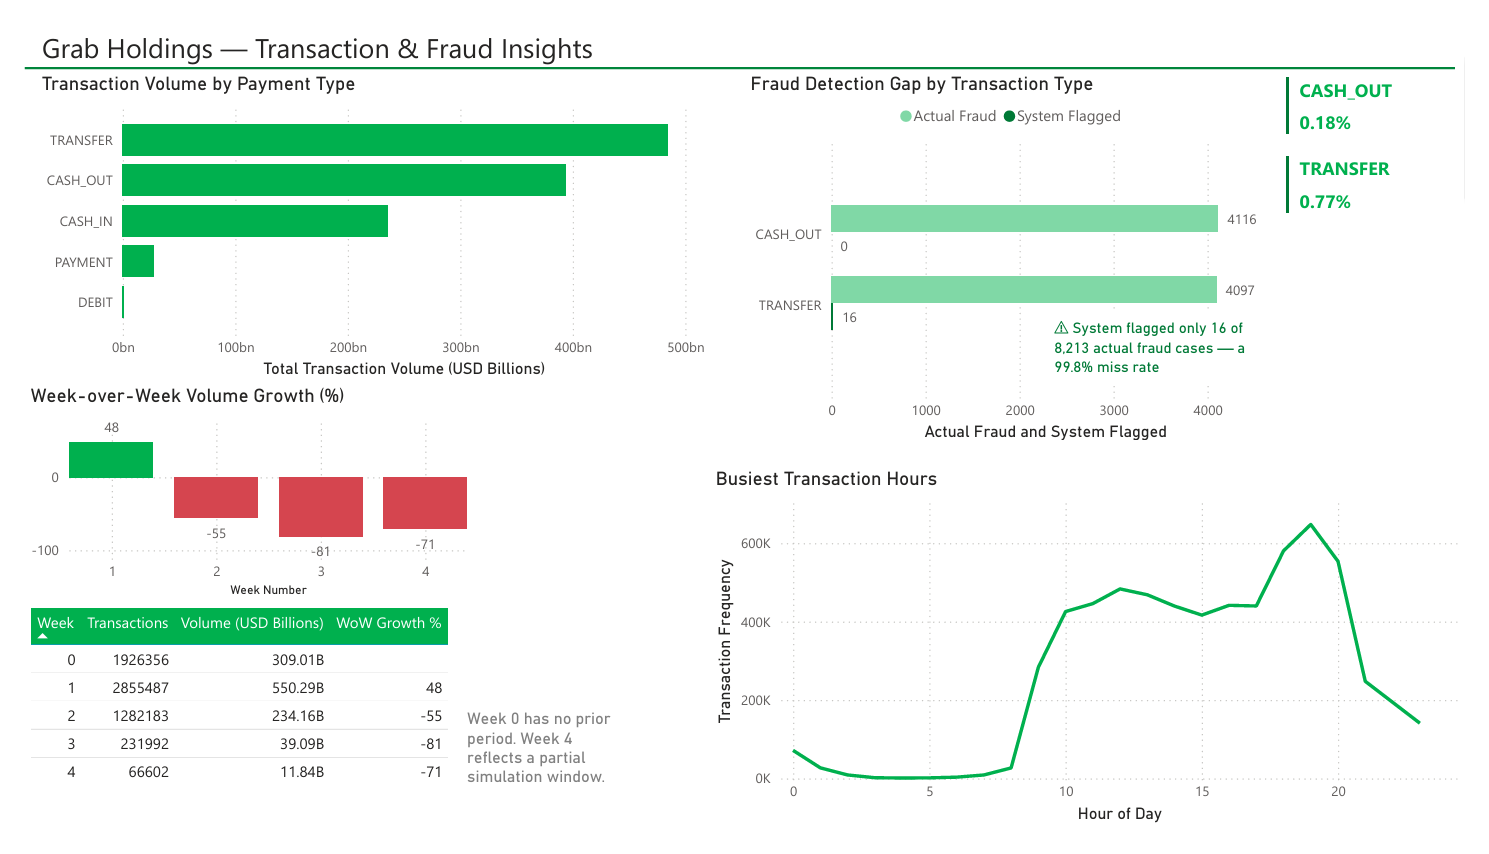

Layout of this report page (visuals, bound fields, positions):
{"tool":"powerbi","page":{"name":"Transaction Insights","canvas":[1280,720],"ordinal":2},"visuals":[{"type":"clusteredBarChart","title":"Transaction Volume by Payment Type","fields":{"Category":["transaction_payment_type.type"],"Y":["Sum(transaction_payment_type.total_volume)"]},"box":[10,47.5,598.8,277.5],"z":0},{"type":"clusteredBarChart","title":"Fraud Detection Gap by Transaction Type","fields":{"Category":["fraud_rate.type"],"Y":["Sum(fraud_rate.actual_fraud)","Sum(fraud_rate.system_flagged)"]},"box":[640,47.5,476.2,332.5],"z":1000},{"type":"textbox","box":[910,258.8,195,66.2],"z":2000},{"type":"lineChart","title":"Busiest Transaction Hours","fields":{"Category":["busiest_hours2.hour_of_day"],"Y":["Sum(busiest_hours2.transaction_frequency)"]},"box":[608.8,398.8,670,321.2],"z":3000},{"type":"multiRowCard","fields":{"Values":["fraud_rate.type","fraud_rate.Fraud Rate Display"]},"box":[1116.2,47.5,147.5,161.2],"z":4000},{"type":"tableEx","title":"Week over Week Growth","fields":{"Values":["WoW_growth.week_number","Sum(WoW_growth.total_transactions)","WoW_growth.Billion_Format","Sum(WoW_growth.wow_growth_percentage)"]},"box":[0,501.2,397.5,188.8],"z":5000},{"type":"clusteredColumnChart","title":"Week-over-Week Volume Growth (%)","fields":{"Category":["WoW_growth.week_number"],"Y":["Sum(WoW_growth.wow_growth_percentage)"]},"box":[0,325,397.5,195],"z":6000},{"type":"textbox","box":[387.5,608.8,155,81.2],"z":7000},{"type":"textbox","box":[10,5,512.5,42.5],"z":7001},{"type":"shape","box":[0,26.1,1270.7,37],"z":7002}]}

Visuals, with their boxes in screenshot pixels (x1, y1, x2, y2), scaled from the page's 1280x720 canvas onto the 1489x854 screenshot:
"Transaction Volume by Payment Type" clusteredBarChart: region(12, 56, 708, 385)
"Fraud Detection Gap by Transaction Type" clusteredBarChart: region(744, 56, 1298, 451)
textbox: region(1059, 307, 1285, 385)
"Busiest Transaction Hours" lineChart: region(708, 473, 1488, 853)
multiRowCard - fraud_rate.type x fraud_rate.Fraud Rate Display: region(1298, 56, 1470, 248)
"Week over Week Growth" tableEx: region(0, 594, 462, 818)
"Week-over-Week Volume Growth (%)" clusteredColumnChart: region(0, 385, 462, 617)
textbox: region(451, 722, 631, 818)
textbox: region(12, 6, 608, 56)
shape: region(0, 31, 1478, 75)
